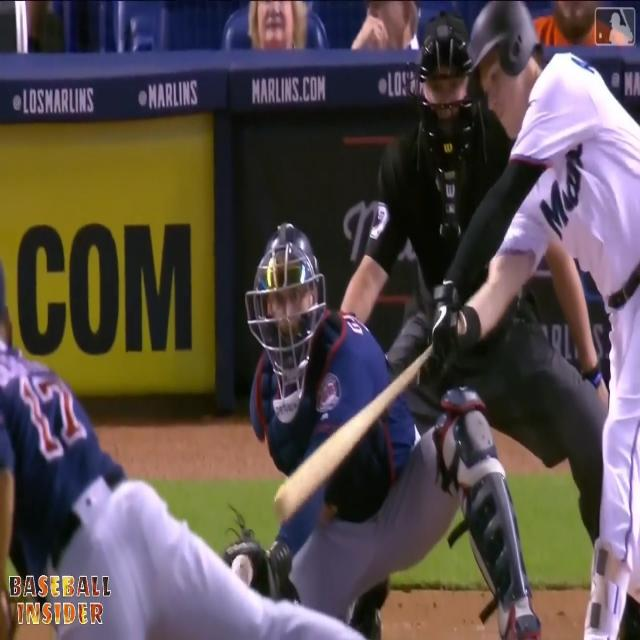baseball: (232, 551, 254, 589)
